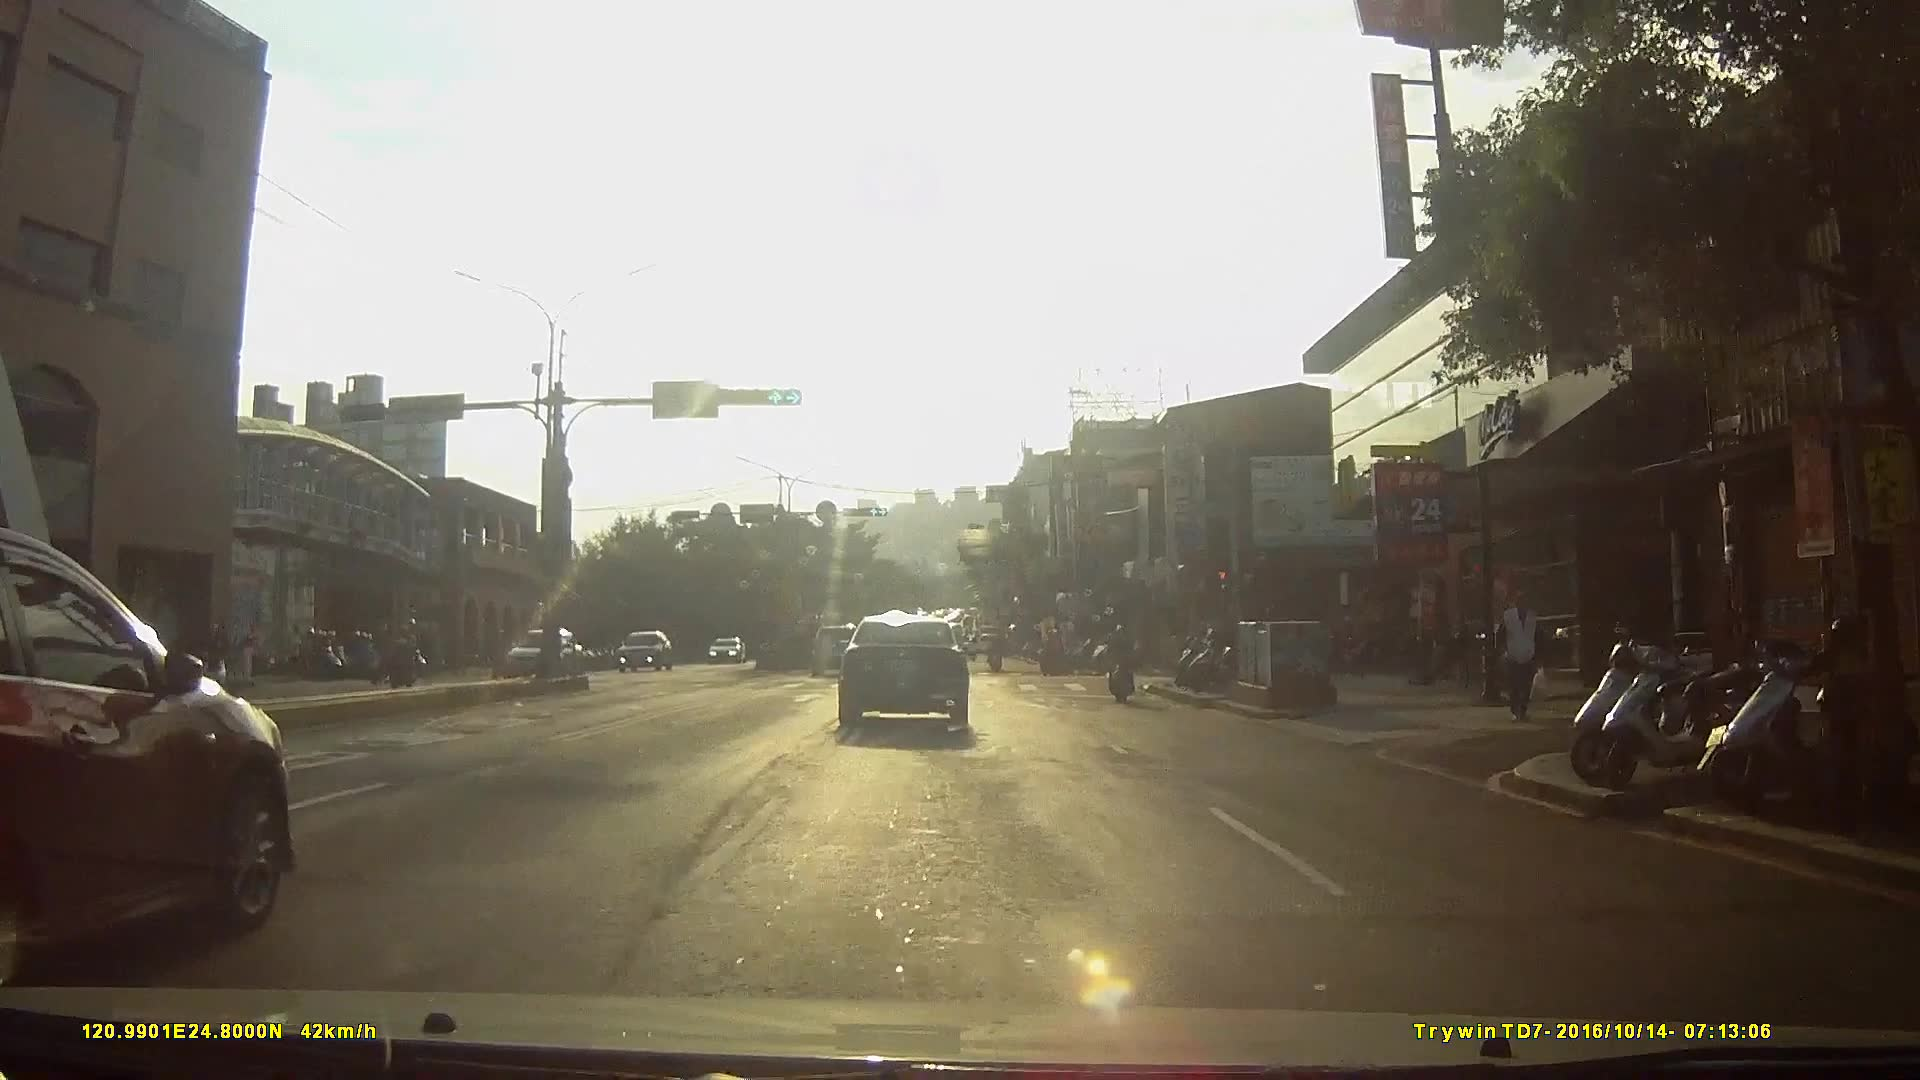pedestrian: (1489, 593, 1542, 729)
rider: (172, 626, 226, 699), (378, 618, 427, 695), (1106, 619, 1139, 702), (345, 630, 388, 683), (1038, 629, 1067, 677), (986, 635, 1006, 676)
vehicle: (1, 532, 302, 989), (835, 609, 986, 735), (493, 623, 587, 681), (809, 621, 868, 676), (618, 632, 675, 675), (704, 636, 750, 668)
